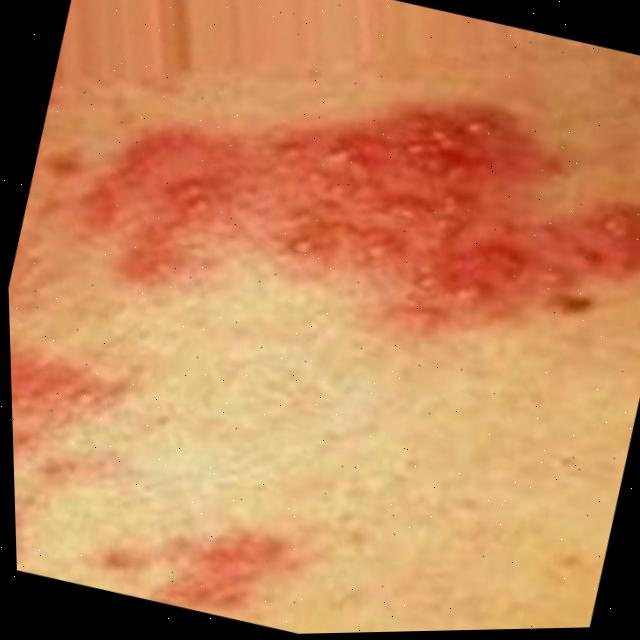Shingles: (64, 10, 640, 388), (105, 490, 300, 632), (10, 340, 137, 463)
